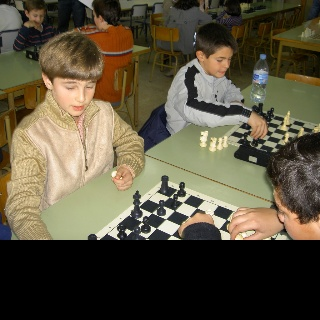without_mask: (273, 186, 320, 240), (52, 78, 97, 117), (203, 47, 233, 78), (27, 9, 46, 27)
